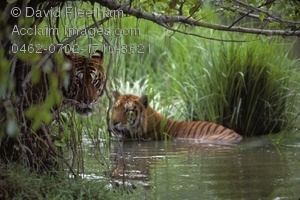Tigre: (110, 93, 239, 166)
